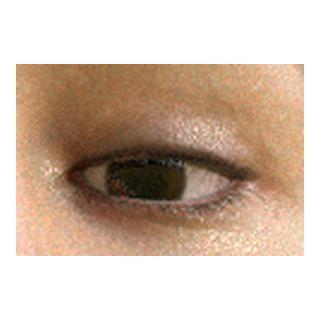pupil: (128, 163, 163, 197)
